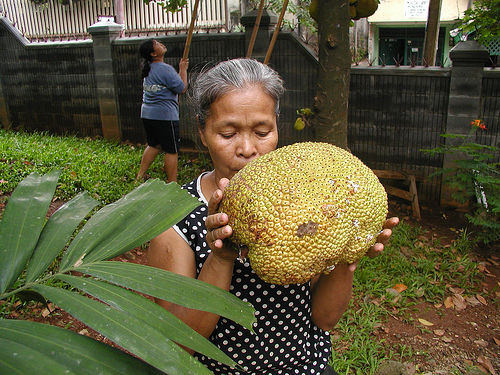jackfruit: (216, 139, 389, 286)
